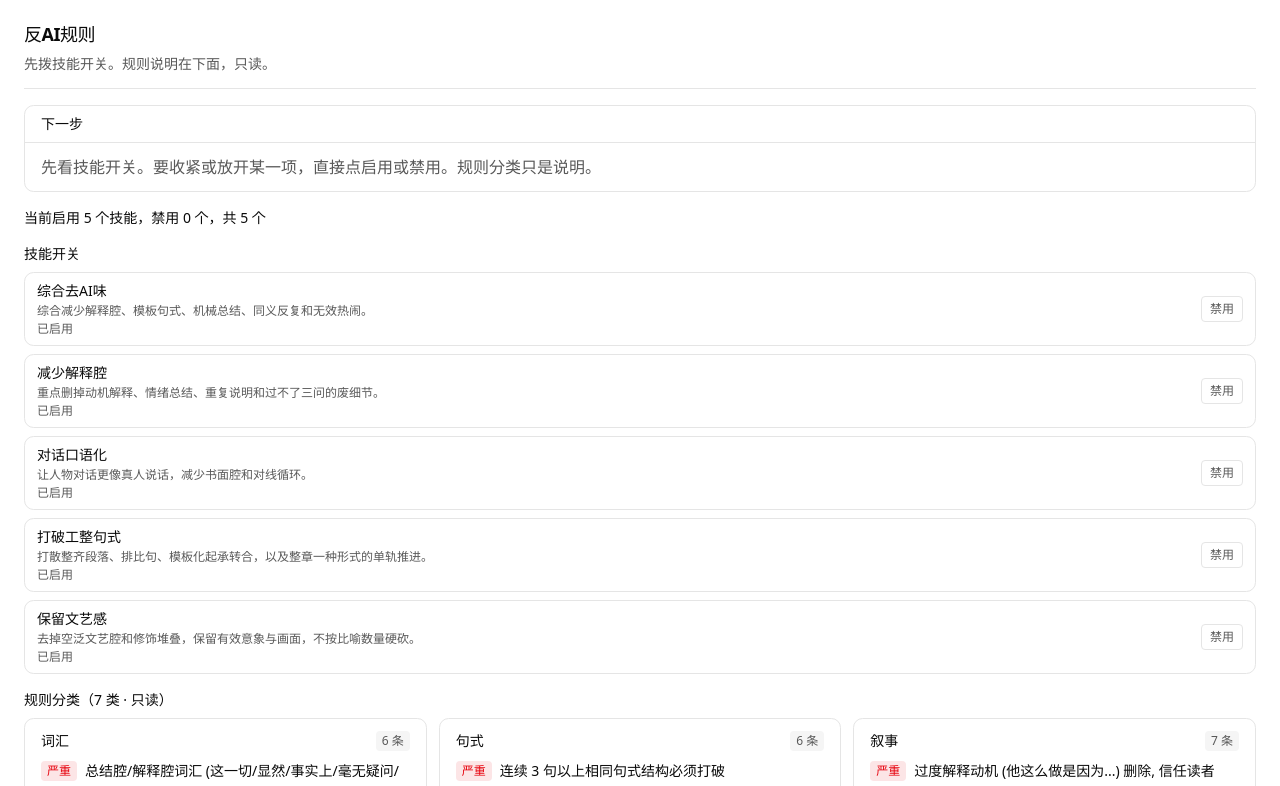
Test: AntiAiRulesView › 技能开关切换：禁用后写盘保存并更新预览计数
Check: the text with test id "anti-ai-skill-status-built-in:comprehensive" reads "已启用", box [37,320,73,337]
What coordinates should you click on to do the following:
click the button with test id "anti-ai-toggle-built-in:comprehensive"
I would click on:
 (1222, 309)
Its box is [1201,296,1243,322].
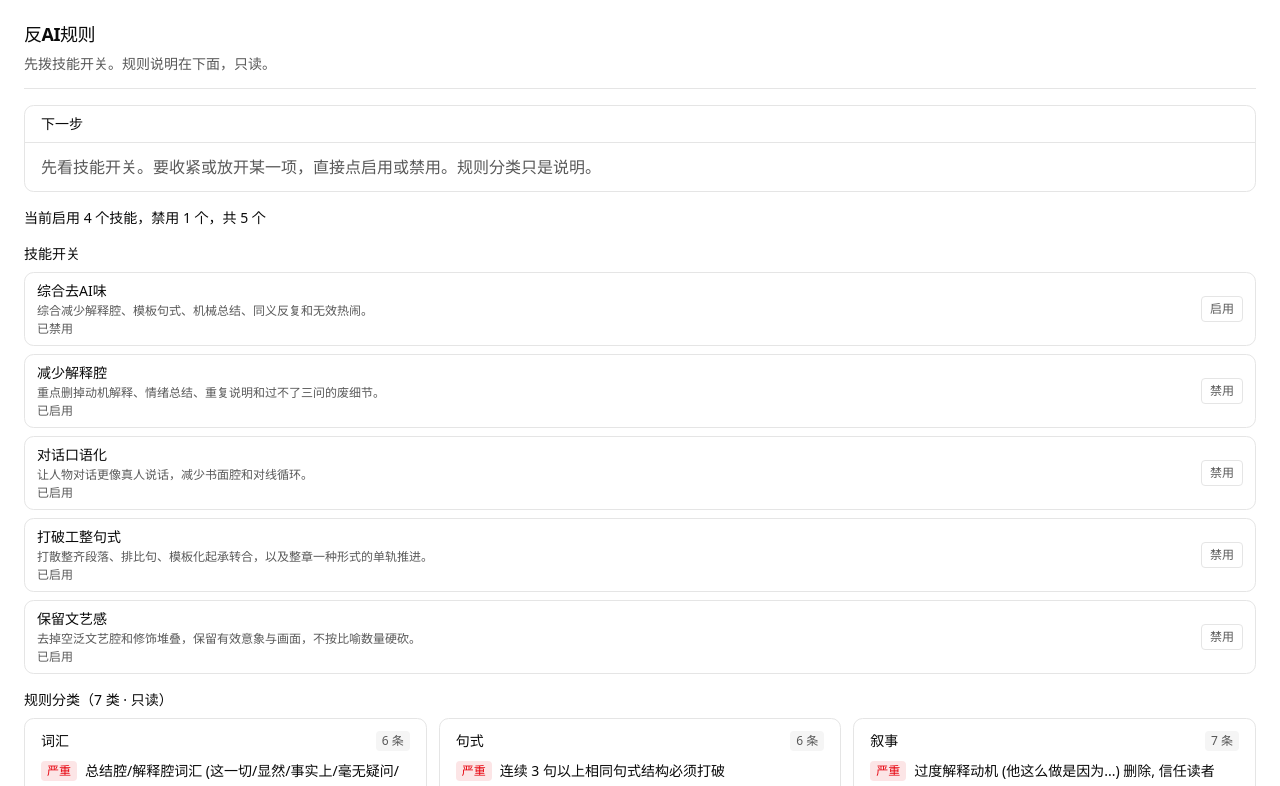
Check: the text with test id "anti-ai-skill-status-built-in:comprehensive" reads "已禁用", box [37,320,73,337]
Check: the text with test id "anti-ai-preview" shows "启用 4 个技能", box [24,208,266,227]
Check: the text with test id "anti-ai-preview" shows "禁用 1 个", box [24,208,266,227]
